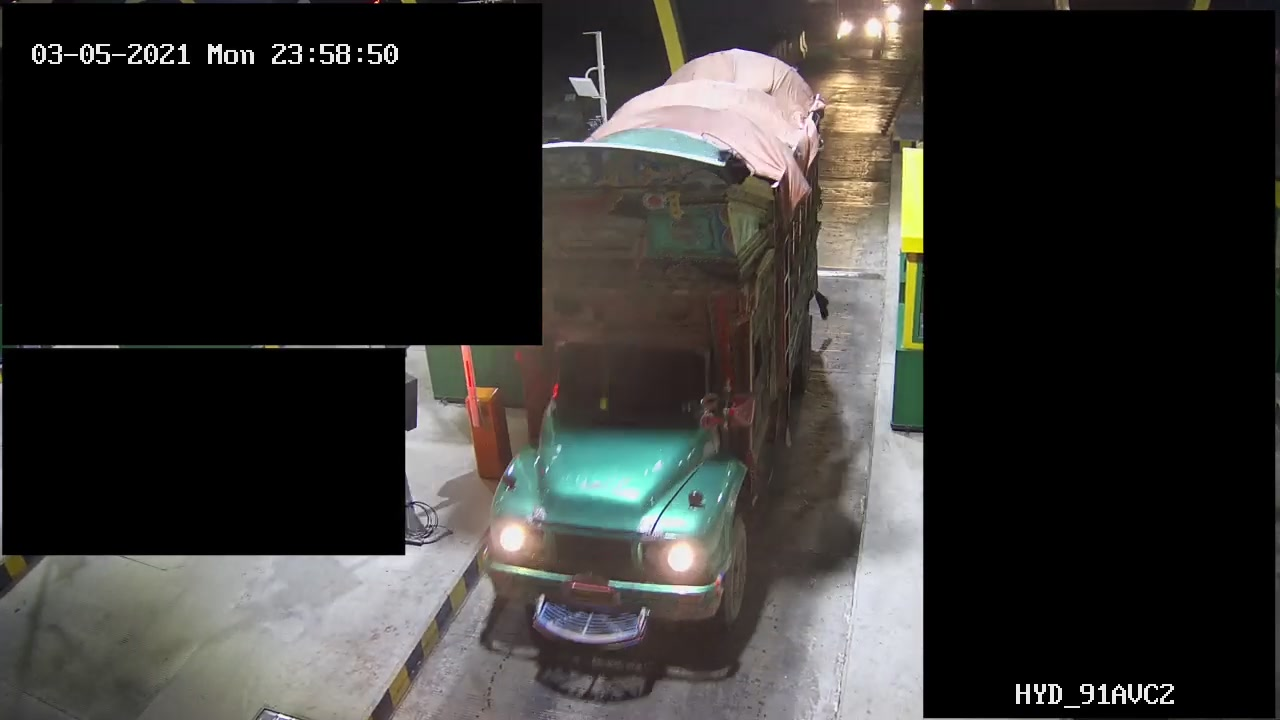F5: (463, 46, 848, 667)
